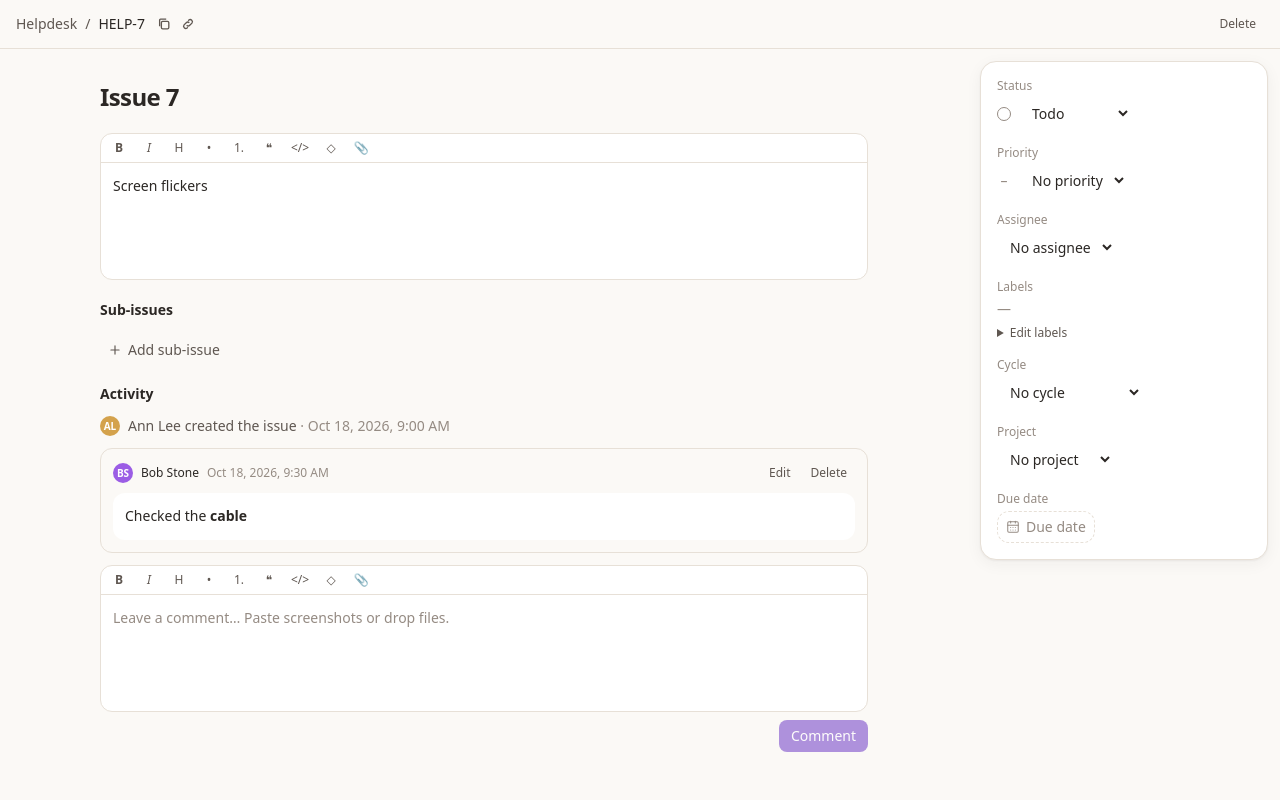
Test: issue comments › deletes after confirmation
Click the button "Delete" in the row of "Oct 18, 2026, 9:30 AM".
click(829, 473)  # box top-left (802, 461), bottom-right (855, 485)
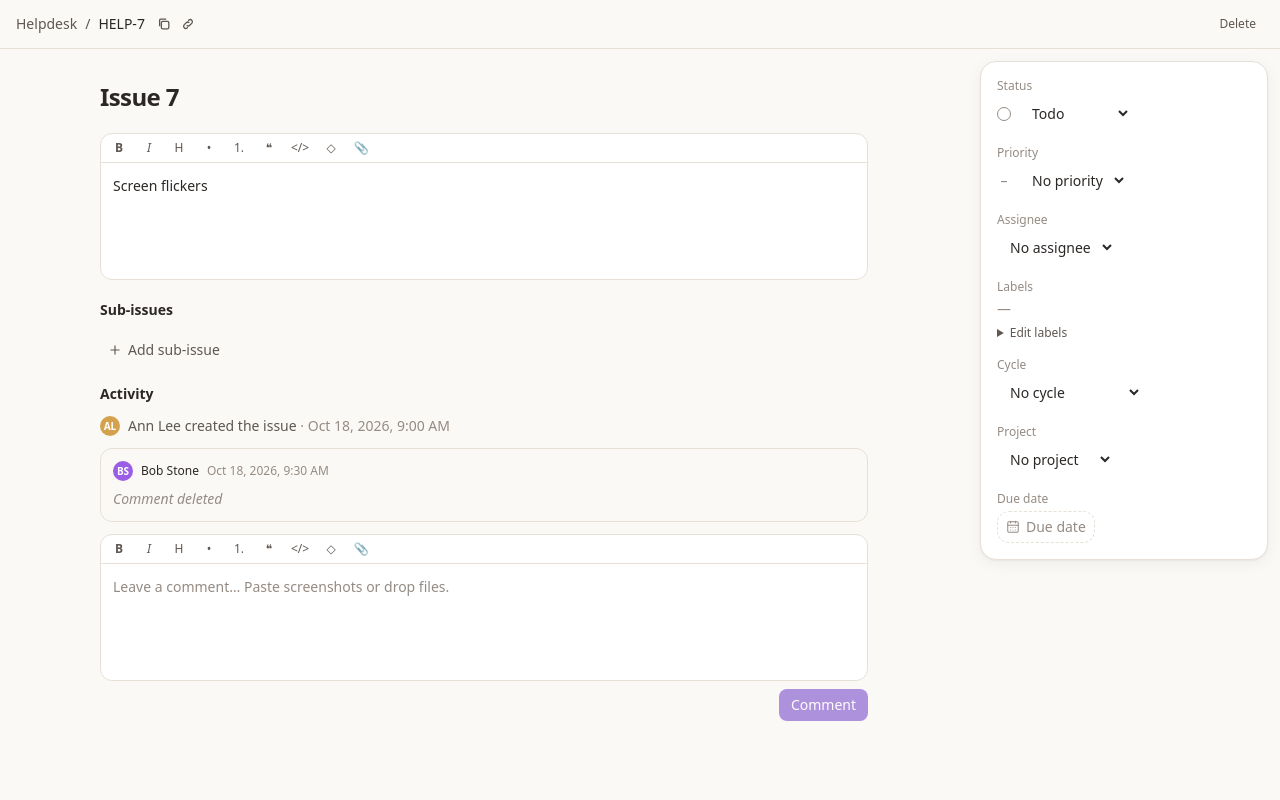
Now the text "Comment deleted" is shown, box top-left (113, 489), bottom-right (222, 508)
